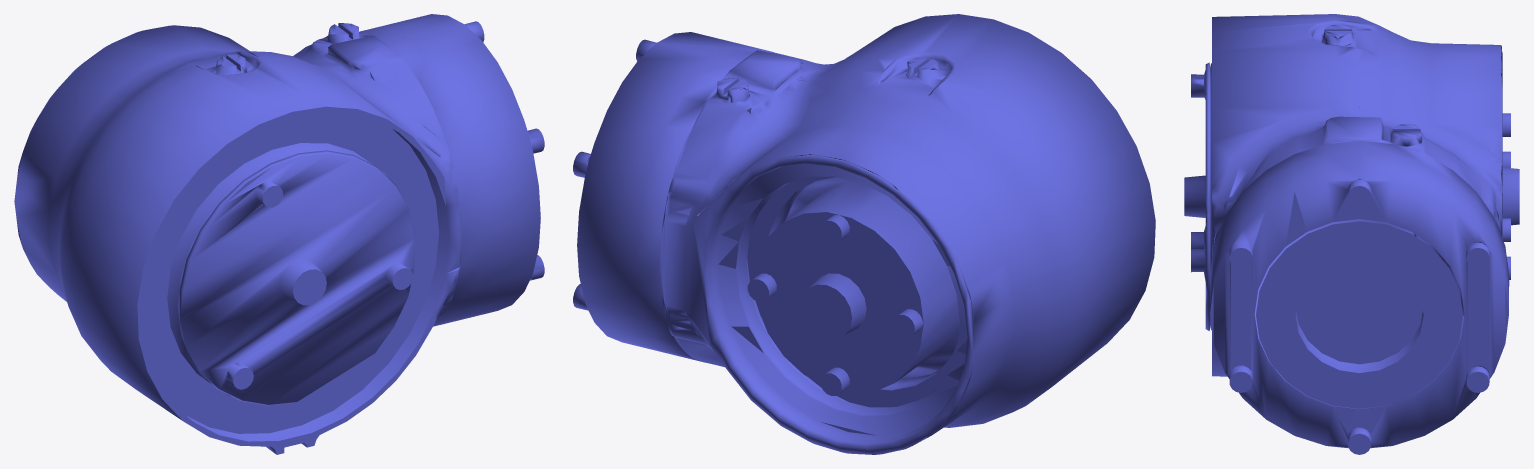
The picture shows the model from 3 angles, left to right: view 1: azimuth 30°, elevation 25°; view 2: azimuth 150°, elevation 25°; view 3: azimuth 270°, elevation 25°; orthographic projection. The views are drawn at different scales.
Visible parts, largest first — view 1: gp4_link_5_b; view 2: gp4_link_5_b; view 3: gp4_link_5_b.
Part boxes in pixels (box(x1,y1,x2,y2)): gp4_link_5_b: box(14, 14, 544, 454); gp4_link_5_b: box(573, 14, 1155, 454); gp4_link_5_b: box(1184, 14, 1519, 454).
Bounding box in the file's own units: 0.1112 × 0.0785 × 0.087.
